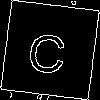C: (25, 24, 70, 75)
